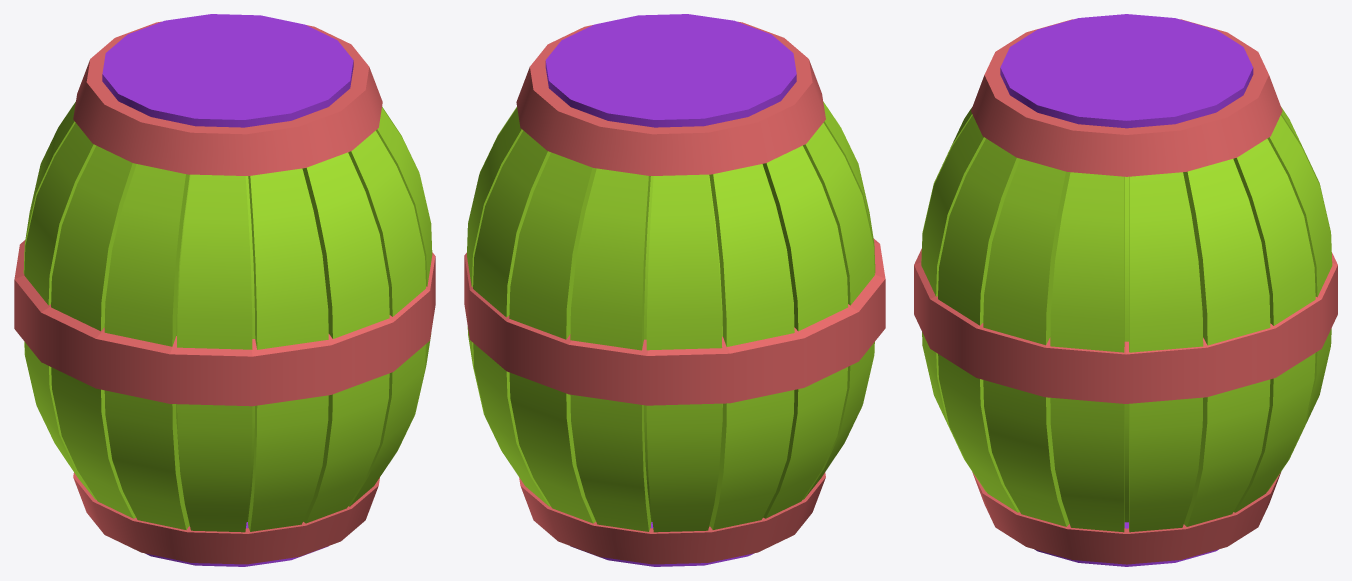
The model's file is BarrelV2UVID.fbx.
The picture shows the model from 3 angles, left to right: view 1: azimuth 30°, elevation 25°; view 2: azimuth 150°, elevation 25°; view 3: azimuth 270°, elevation 25°; orthographic projection.
Parts seen in each view (by area): view 1: Barrel, MidBand, Top, BottomBand, TopBand; view 2: Barrel, MidBand, Top, BottomBand, TopBand; view 3: Barrel, MidBand, Top, BottomBand, TopBand.
Boxes of the visible parts, <box> form: Barrel: <box>23,101,432,532</box>; MidBand: <box>14,240,435,406</box>; Top: <box>102,14,353,127</box>; BottomBand: <box>73,21,382,175</box>; TopBand: <box>73,472,379,564</box>; Barrel: <box>467,102,875,532</box>; MidBand: <box>464,238,885,405</box>; Top: <box>545,14,796,127</box>; BottomBand: <box>516,21,825,175</box>; TopBand: <box>519,472,825,564</box>; Barrel: <box>921,107,1332,532</box>; MidBand: <box>914,248,1337,403</box>; Top: <box>1000,14,1253,128</box>; BottomBand: <box>971,19,1282,176</box>; TopBand: <box>972,472,1280,564</box>.
Bounding box in the file's own units: 175 × 203 × 175.
